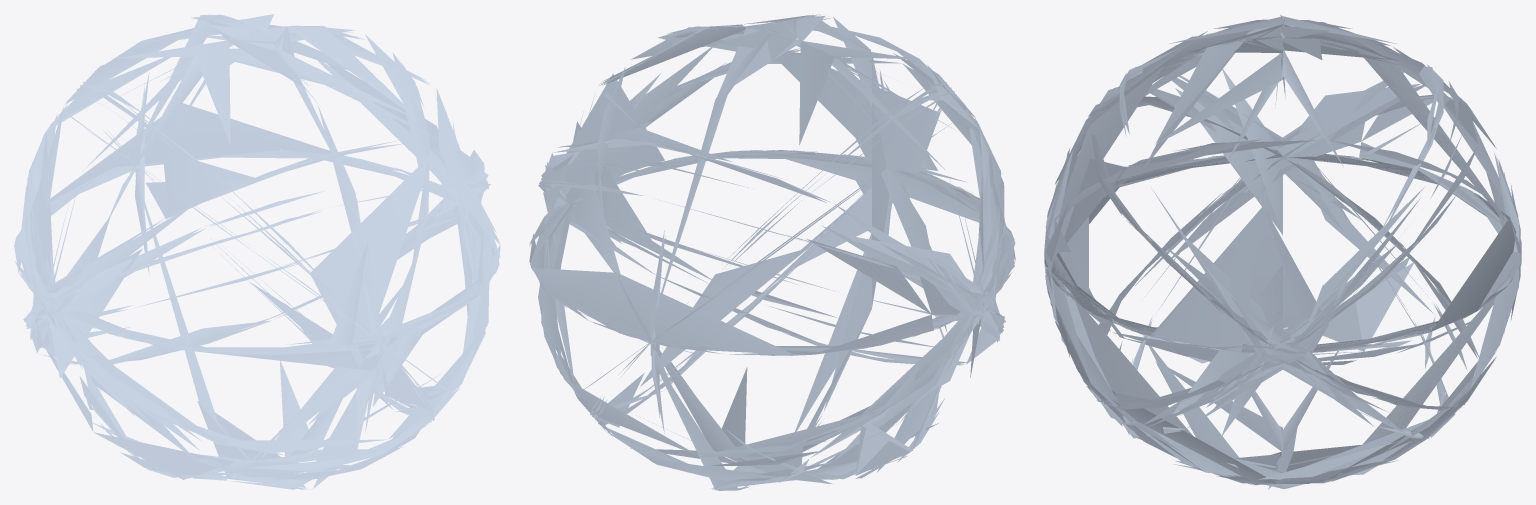
3 views of the same model, side by side, from view 1: azimuth 30°, elevation 25°; view 2: azimuth 150°, elevation 25°; view 3: azimuth 270°, elevation 25° (orthographic). The views are drawn at different scales.
Visible parts, largest first — view 1: 20C-20C-structural; view 2: 20C-20C-structural; view 3: 20C-20C-structural.
Part boxes in pixels (left/top/right/bottom): 20C-20C-structural: left=14, top=14, right=500, bottom=489; 20C-20C-structural: left=529, top=14, right=1015, bottom=490; 20C-20C-structural: left=1044, top=14, right=1521, bottom=489.
Bounding box in the file's own units: 2 × 2 × 2.
